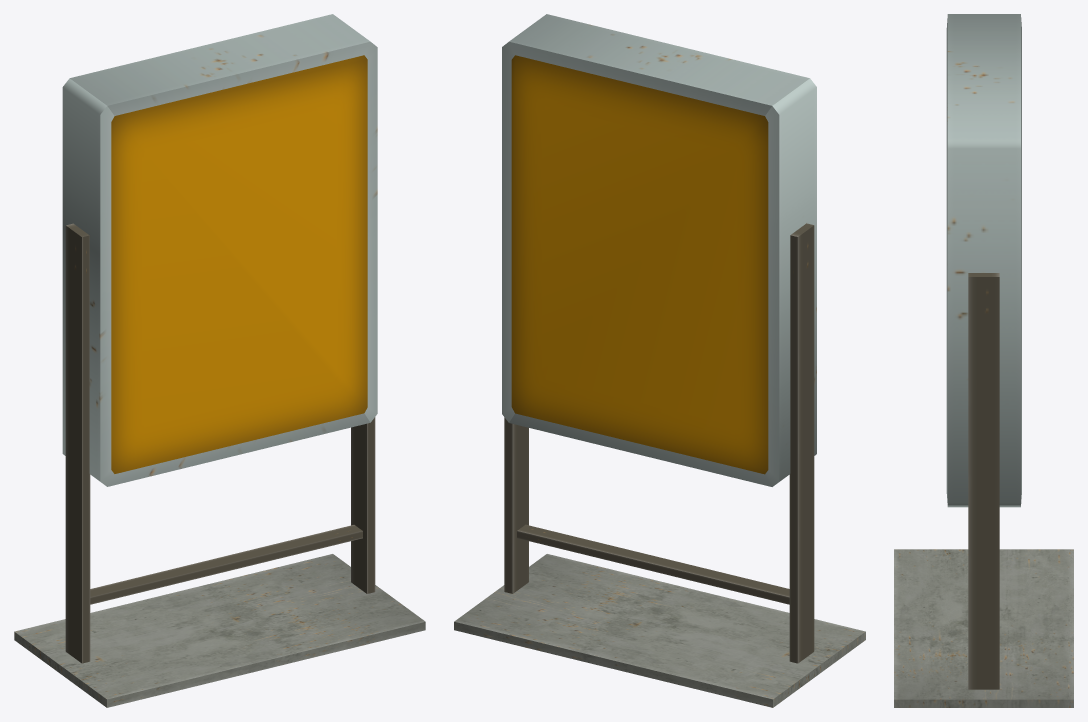
File: menustand01c.fbx
3 views of the same model, side by side, from view 1: azimuth 30°, elevation 25°; view 2: azimuth 150°, elevation 25°; view 3: azimuth 270°, elevation 25° (orthographic). The views are drawn at different scales.
Visible parts, largest first — view 1: menustand01c; view 2: menustand01c; view 3: menustand01c.
Boxes of the visible parts, box(x1,y1,x2,y2) form: menustand01c: box(14, 14, 425, 707); menustand01c: box(454, 14, 865, 707); menustand01c: box(894, 14, 1073, 707).
Bounding box in the file's own units: 62.43 × 108 × 31.49.
